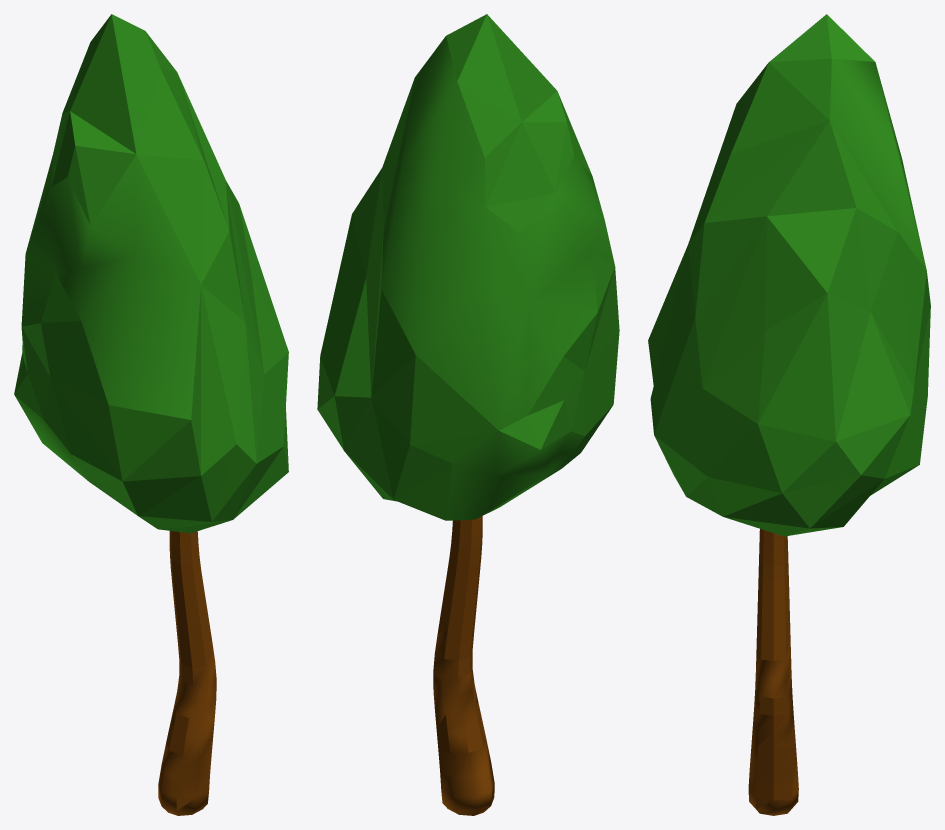
The model's file is tree_b.glb.
The picture shows the model from 3 angles, left to right: view 1: azimuth 30°, elevation 25°; view 2: azimuth 150°, elevation 25°; view 3: azimuth 270°, elevation 25°; orthographic projection. The views are drawn at different scales.
Parts seen in each view (by area): view 1: tree_b; view 2: tree_b; view 3: tree_b.
Boxes of the visible parts, box(x1,y1,x2,y2) form: tree_b: box(14, 14, 288, 815); tree_b: box(317, 14, 619, 815); tree_b: box(648, 14, 930, 815).
Size of the model in its own units: 1.25 by 3.88 by 1.28.
